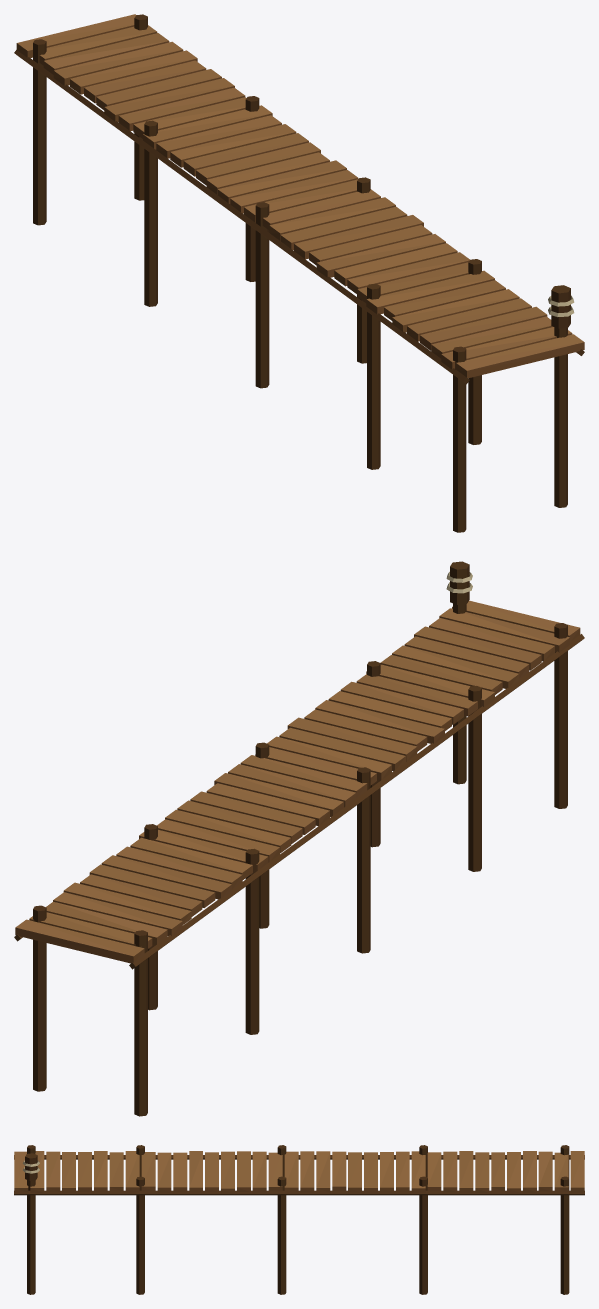
The model's file is pier.glb.
The picture shows the model from 3 angles, top to bottom: view 1: azimuth 30°, elevation 25°; view 2: azimuth 150°, elevation 25°; view 3: azimuth 270°, elevation 25°; orthographic projection. The views are drawn at different scales.
Parts seen in each view (by area): view 1: base; view 2: base; view 3: base.
Part boxes in pixels (left/top/right/bottom): base: left=14, top=14, right=584, bottom=532; base: left=14, top=561, right=584, bottom=1116; base: left=14, top=1145, right=584, bottom=1294.
Bounding box in the file's own units: 0.3653 × 0.6099 × 2.3.
